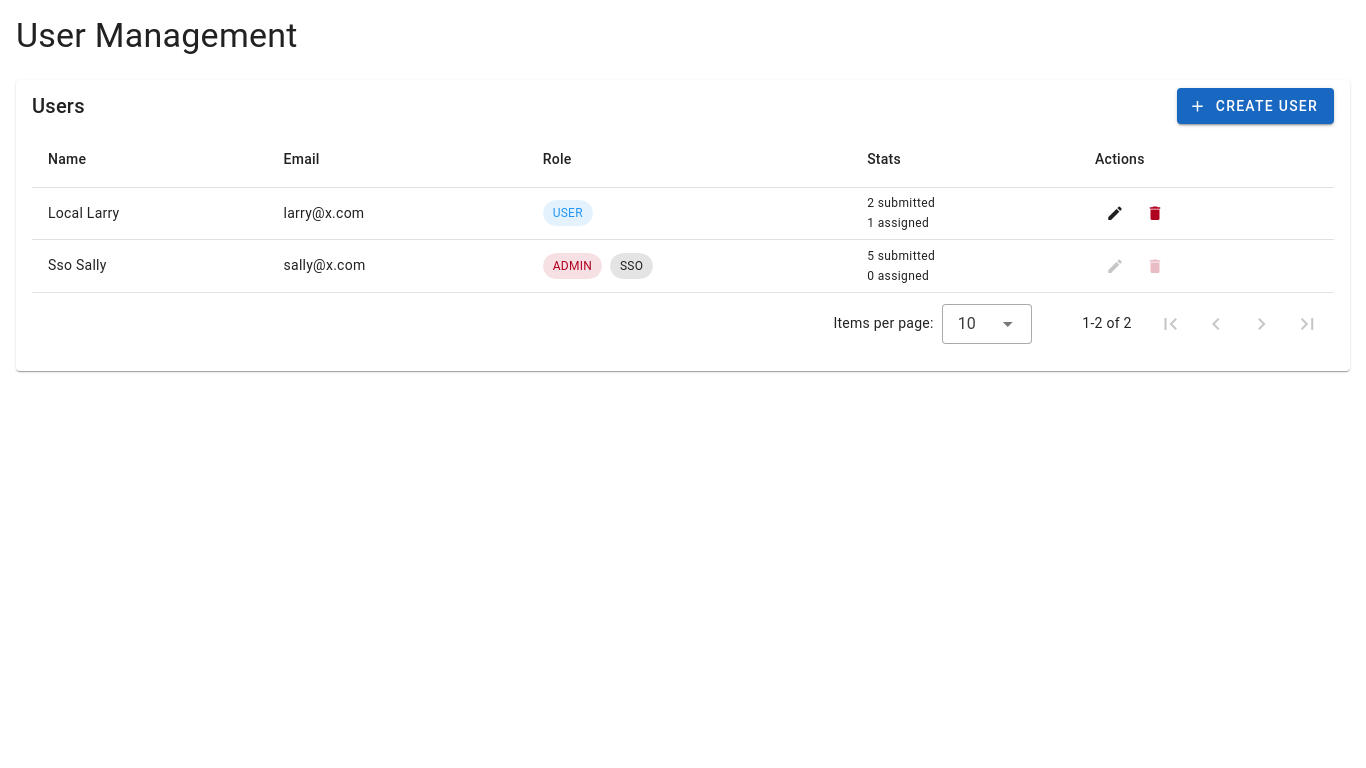
it: UsersPage › opens the edit dialog when the LOCAL user edit button is clicked
The width and height of the screenshot is (1366, 768).
Click the 2nd button at (1115, 213), box 1095,193 -> 1135,233
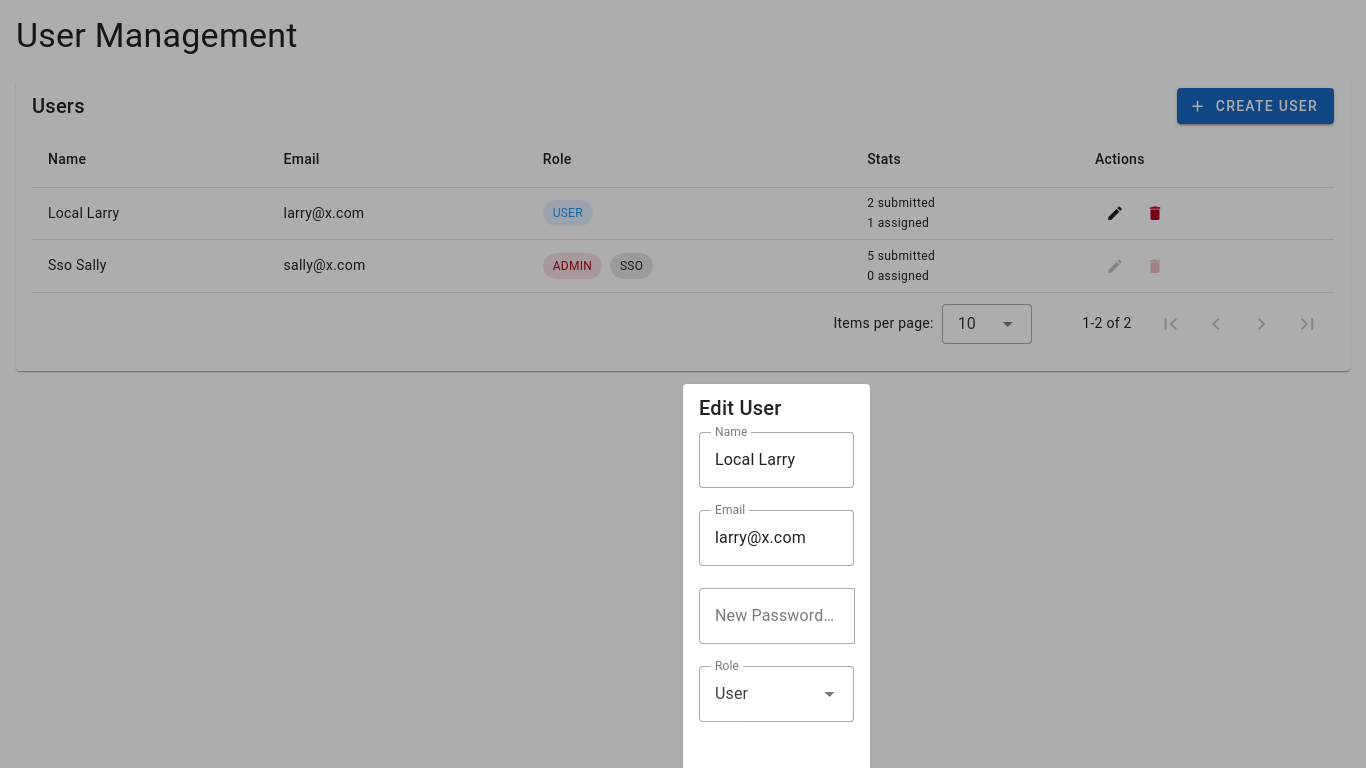
Check: the text "Edit User" is shown, box 699,396 -> 782,420
